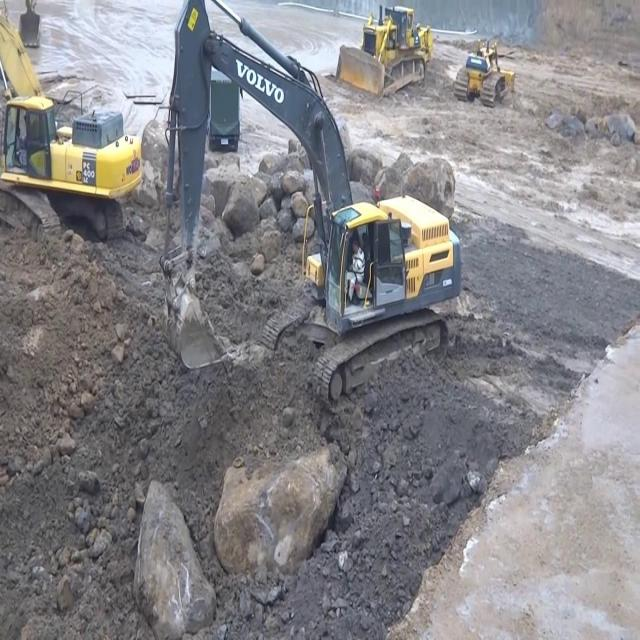Bulldozer: (333, 6, 435, 100)
Excavator: (158, 2, 462, 413), (1, 0, 143, 242)
Loader: (454, 36, 516, 108)
